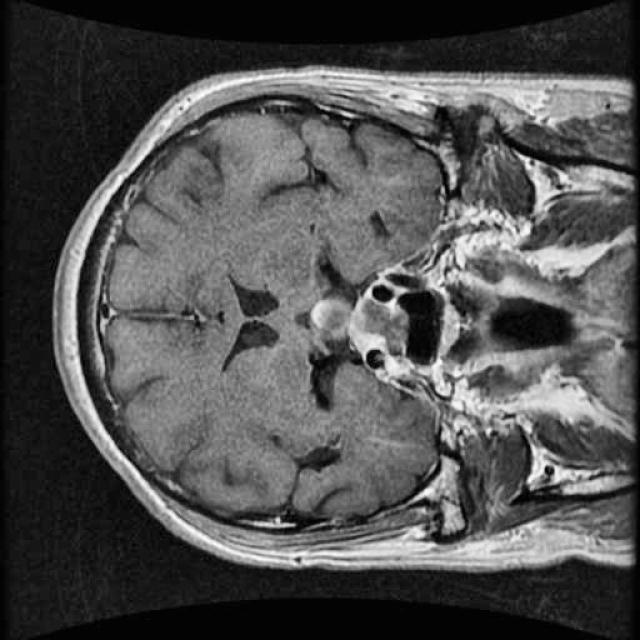Tumor: (295, 281, 372, 361)
